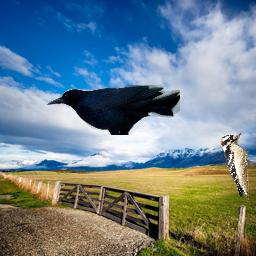Crow: (46, 85, 180, 135)
Woodpecker: (220, 133, 249, 200)
